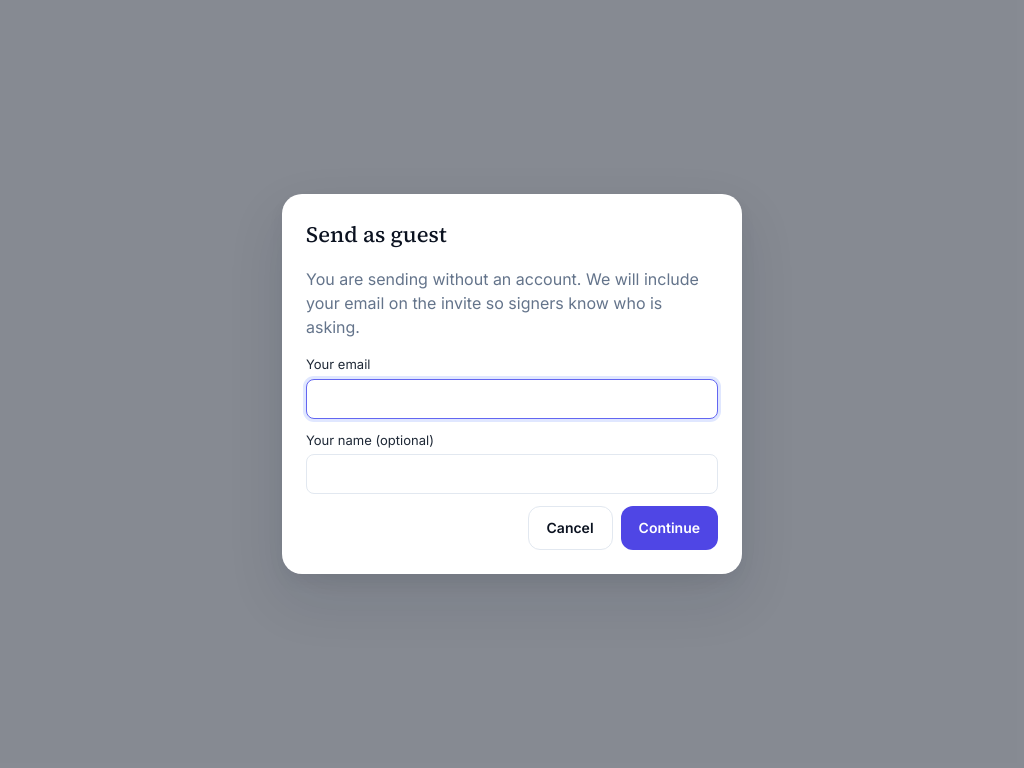
Test case: GuestSenderEmailDialog › refuses to confirm with a malformed email
Type "not-an-email" into the field labelled "Your email" at (512, 398), box [306,378,718,418]
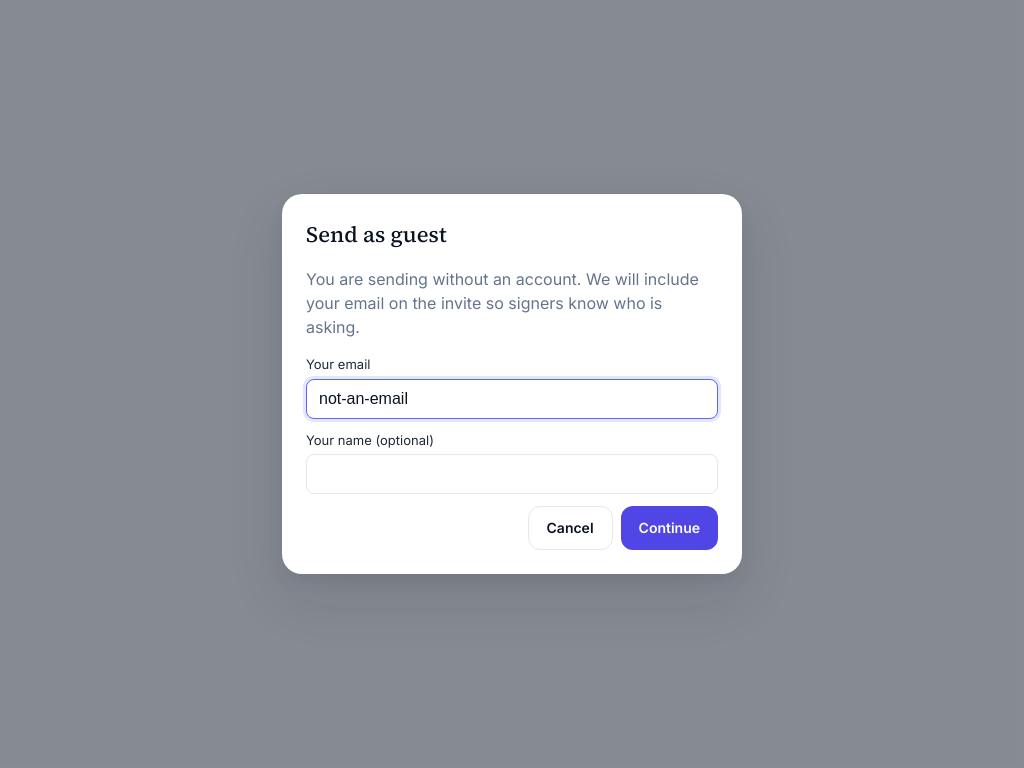
Click the button "Continue" at (669, 528), box [621,506,718,550]
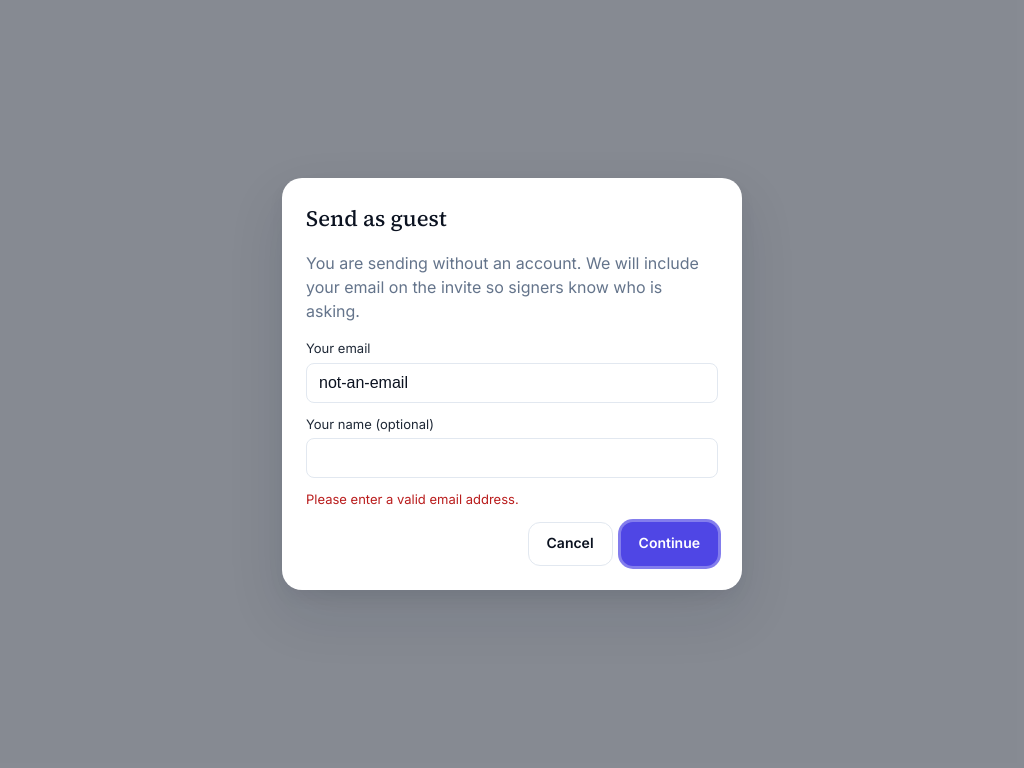
Result: the message shows "valid email" at [306,491,519,507]
